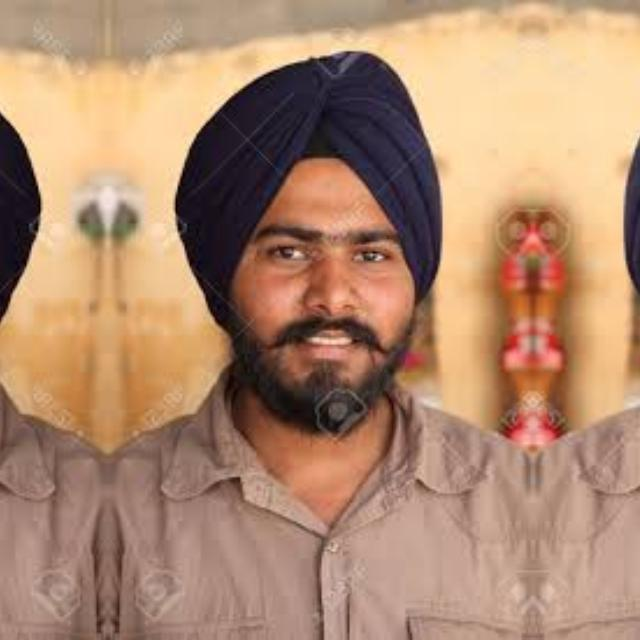person: (116, 6, 520, 640), (0, 6, 98, 640), (545, 6, 640, 640)
